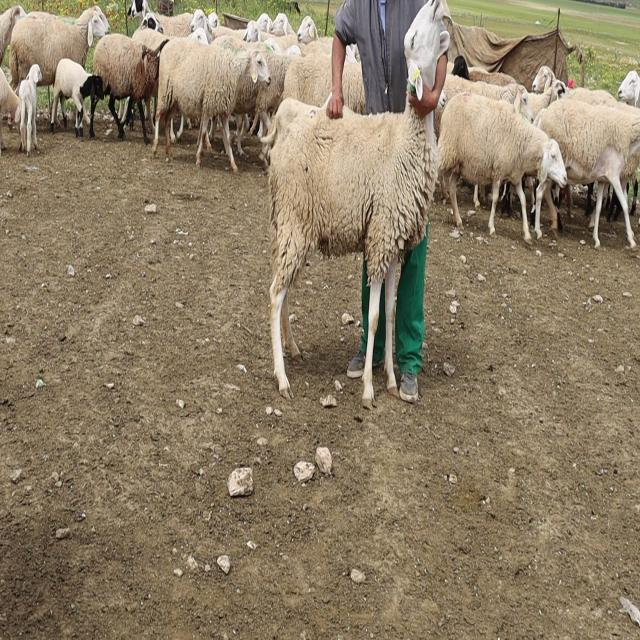Score_1: (267, 0, 451, 408)
